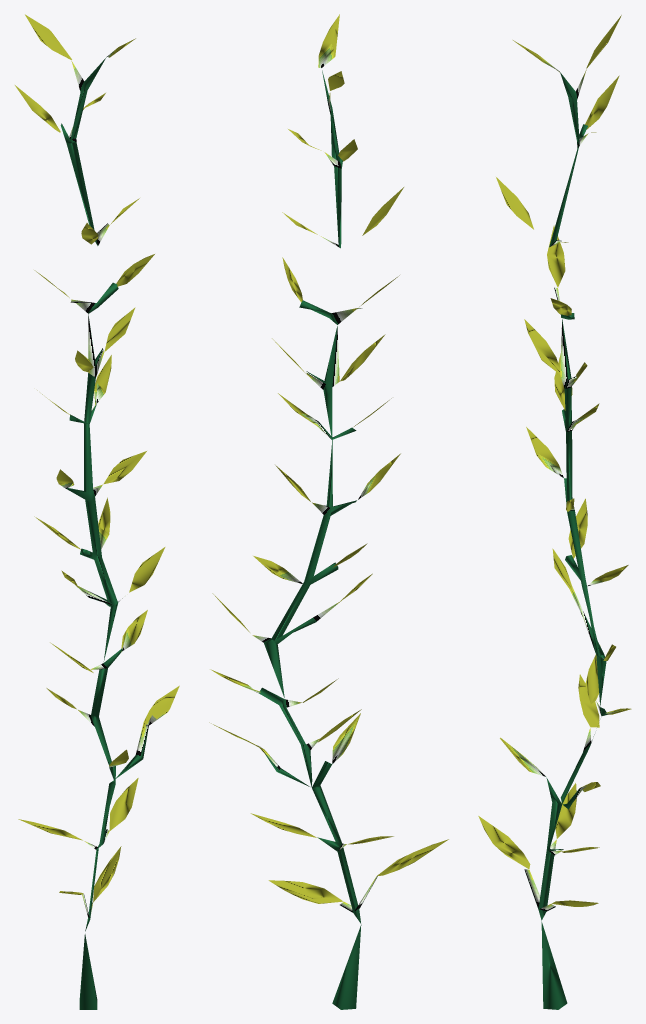
Rendered from reka_trava_1.glb.
3 views of the same model, side by side, from view 1: azimuth 30°, elevation 25°; view 2: azimuth 150°, elevation 25°; view 3: azimuth 270°, elevation 25° (orthographic).
Parts seen in each view (by area): view 1: reka_trava_1; view 2: reka_trava_1; view 3: reka_trava_1.
Boxes of the visible parts, x1,y1,x2,y2 form: reka_trava_1: (15, 14, 179, 1009); reka_trava_1: (209, 14, 448, 1009); reka_trava_1: (478, 15, 631, 1009).
Size of the model in its own units: 0.505 by 2.59 by 0.3678.
1 material, 1 textured.
